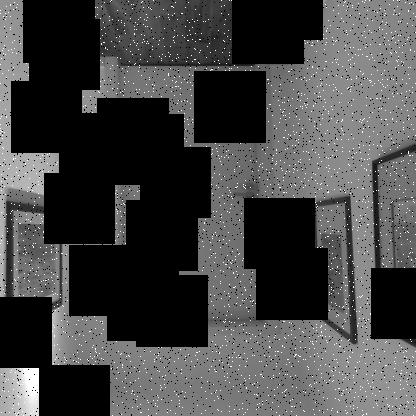Porte: (101, 55, 283, 340)
